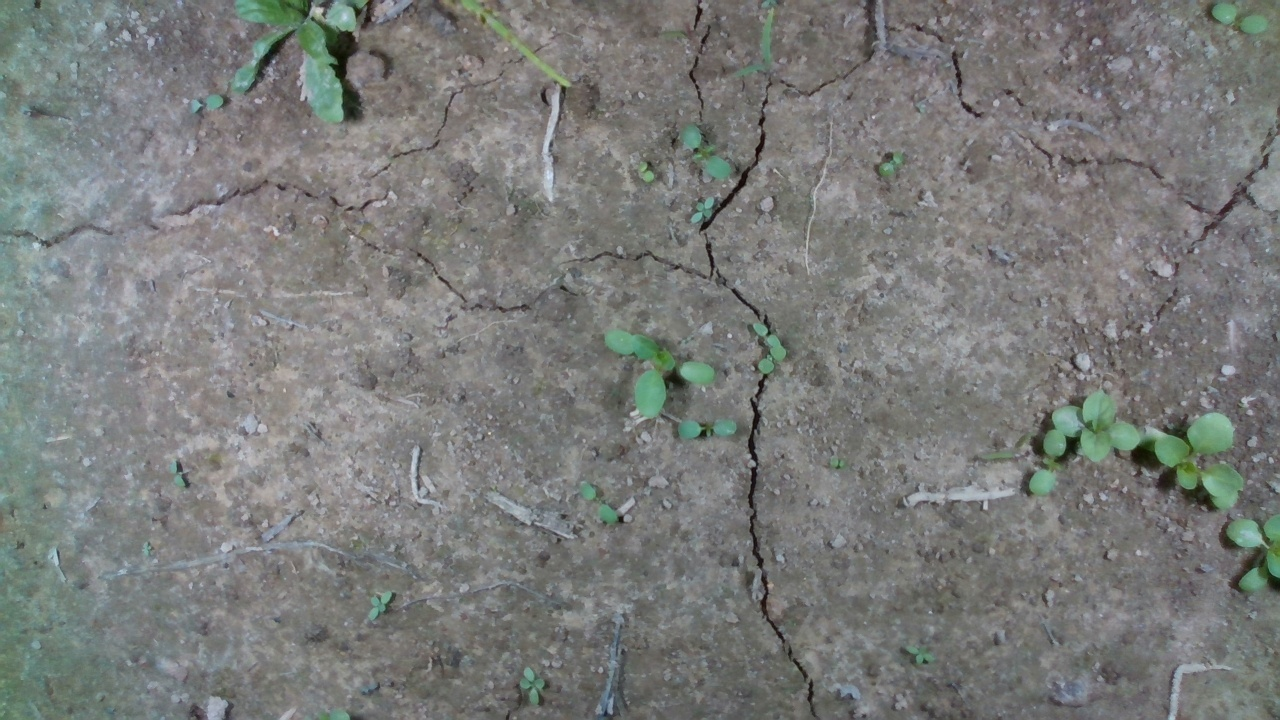weed: (675, 122, 737, 179), (574, 480, 627, 524), (182, 89, 228, 123), (510, 658, 549, 695), (675, 418, 736, 440), (688, 194, 718, 231), (874, 146, 901, 180), (905, 640, 940, 666), (824, 452, 852, 481), (363, 590, 395, 613), (633, 159, 657, 182)
